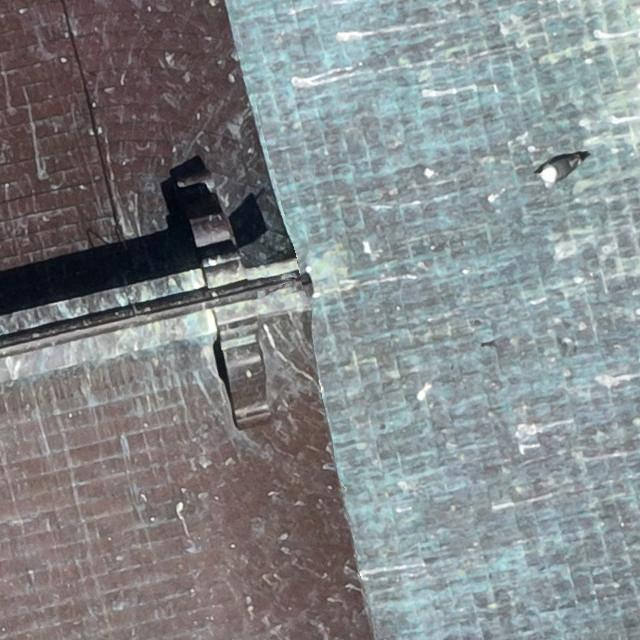umineko: (542, 158, 574, 180)
